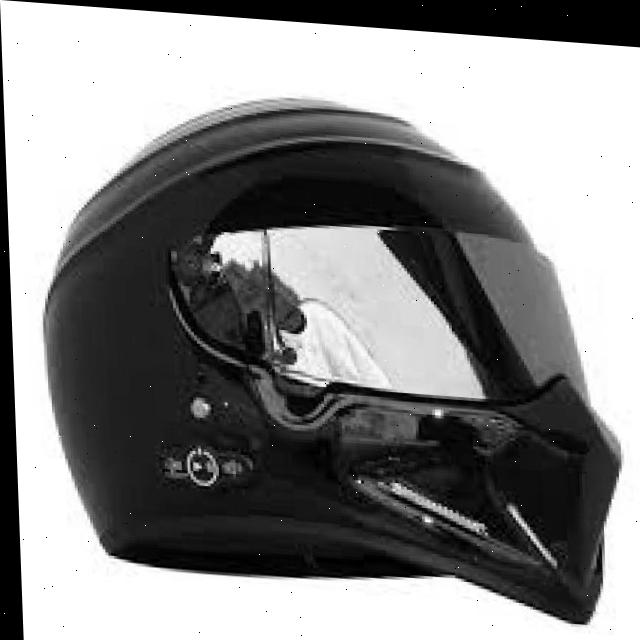Helmet: (35, 81, 614, 613)
